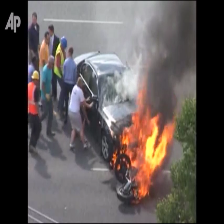fire_h: (120, 68, 176, 201)
fire_l: (117, 156, 129, 169), (112, 148, 117, 168)
